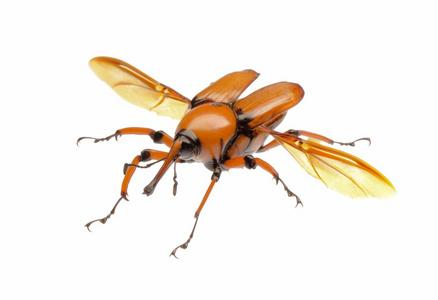Curculionidae: (76, 56, 396, 258)
